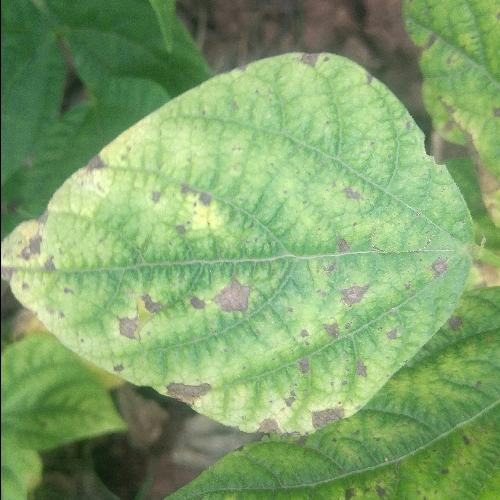hawar: (0, 209, 81, 324), (142, 168, 248, 241), (260, 381, 350, 444), (96, 284, 174, 344), (316, 260, 377, 324), (187, 276, 263, 322), (158, 370, 226, 413), (288, 36, 326, 76), (288, 314, 312, 375), (326, 228, 359, 259), (85, 152, 113, 178), (384, 319, 400, 353), (360, 64, 380, 90), (354, 360, 370, 380)
